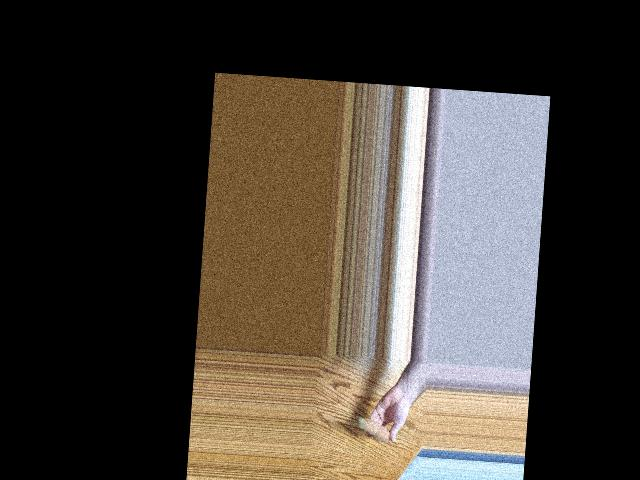sweet_potato: (356, 415, 393, 442)
